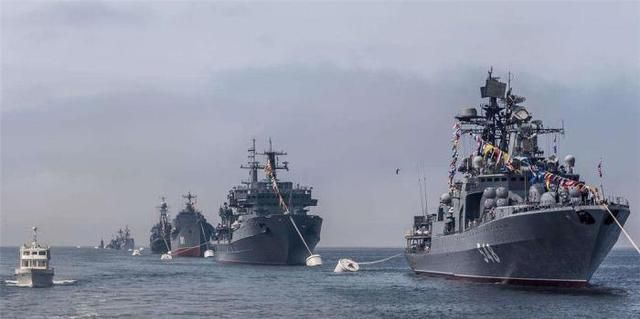otherboat: (12, 232, 55, 290)
warship: (390, 68, 627, 291), (204, 136, 327, 268), (159, 191, 212, 261), (145, 199, 172, 256)
